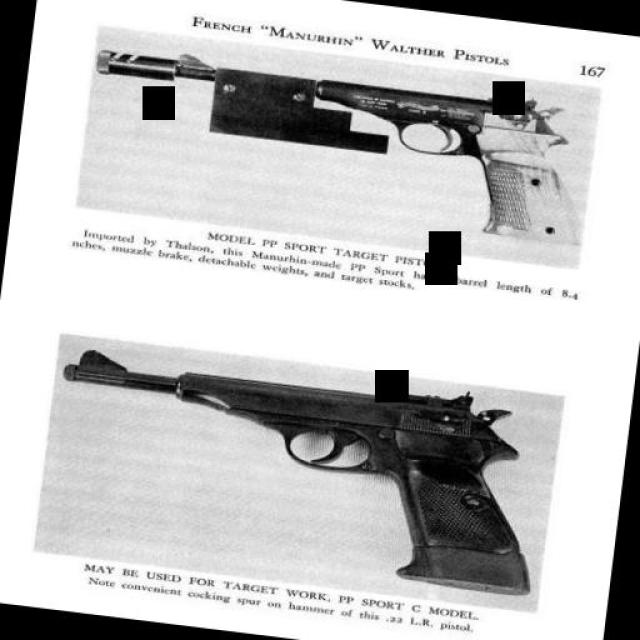gun: (38, 340, 562, 605), (80, 38, 596, 250)
